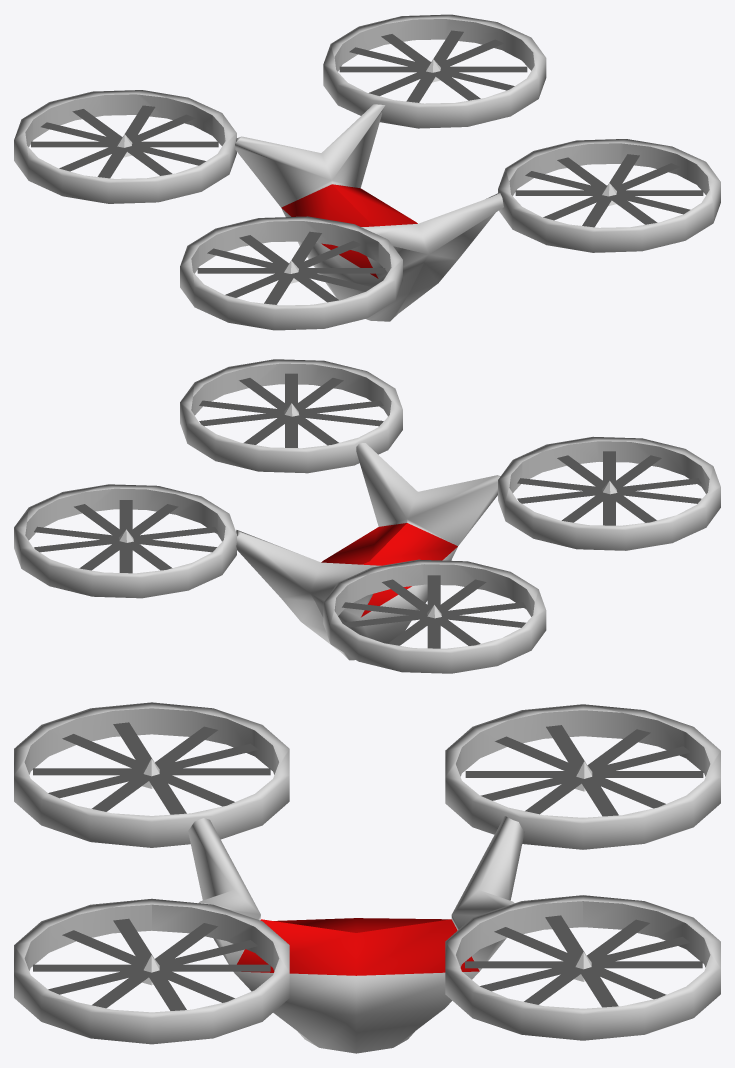
The model's file is Drone.fbx.
3 views of the same model, one above another, from view 1: azimuth 30°, elevation 25°; view 2: azimuth 150°, elevation 25°; view 3: azimuth 270°, elevation 25° (orthographic). The views are drawn at different scales.
Parts seen in each view (by area): view 1: Drone; view 2: Drone; view 3: Drone.
Part boxes in pixels (left/top/right/bottom): Drone: left=14, top=14, right=720, bottom=330; Drone: left=14, top=359, right=720, bottom=673; Drone: left=14, top=702, right=720, bottom=1053.
Bounding box in the file's own units: 1.29 × 0.3558 × 1.22.
